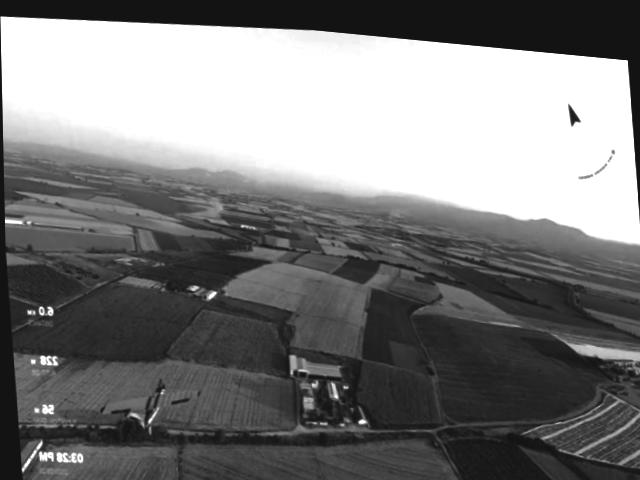hedef: (92, 364, 206, 449)
